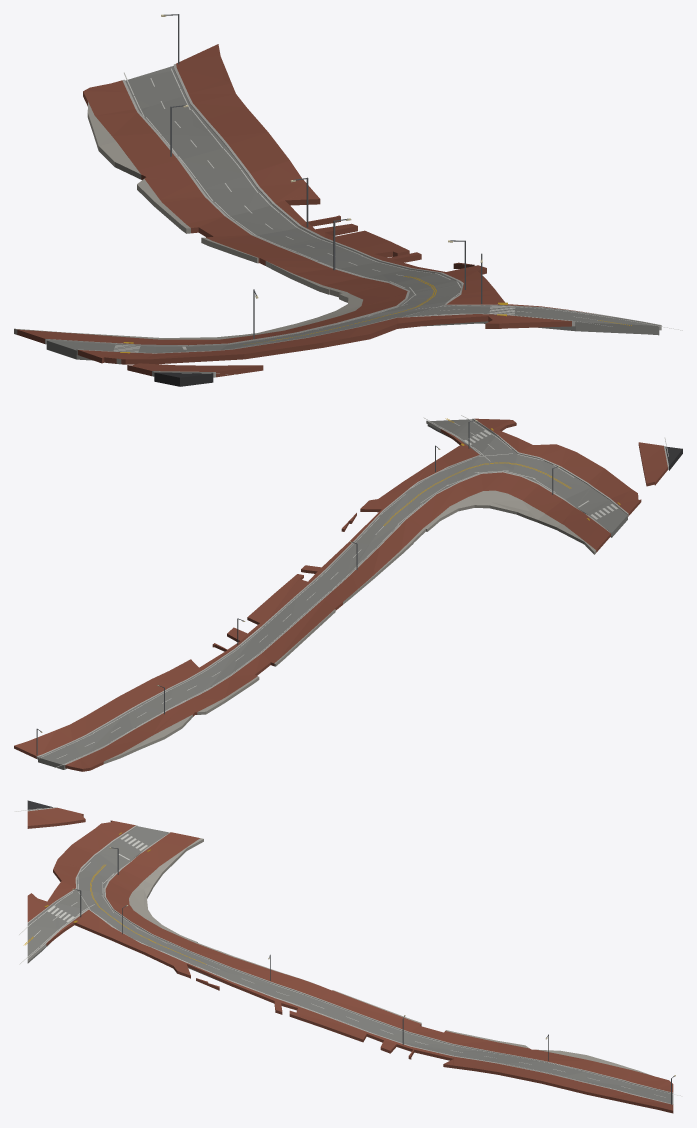
The model's file is 18-218889-118948.4bbfe399.glb.
3 renders of one model, top to bottom at view 1: azimuth 30°, elevation 25°; view 2: azimuth 150°, elevation 25°; view 3: azimuth 270°, elevation 25°, orthographic. The views are drawn at different scales.
Bounding box in the file's own units: 89.46 × 38.84 × 151.
